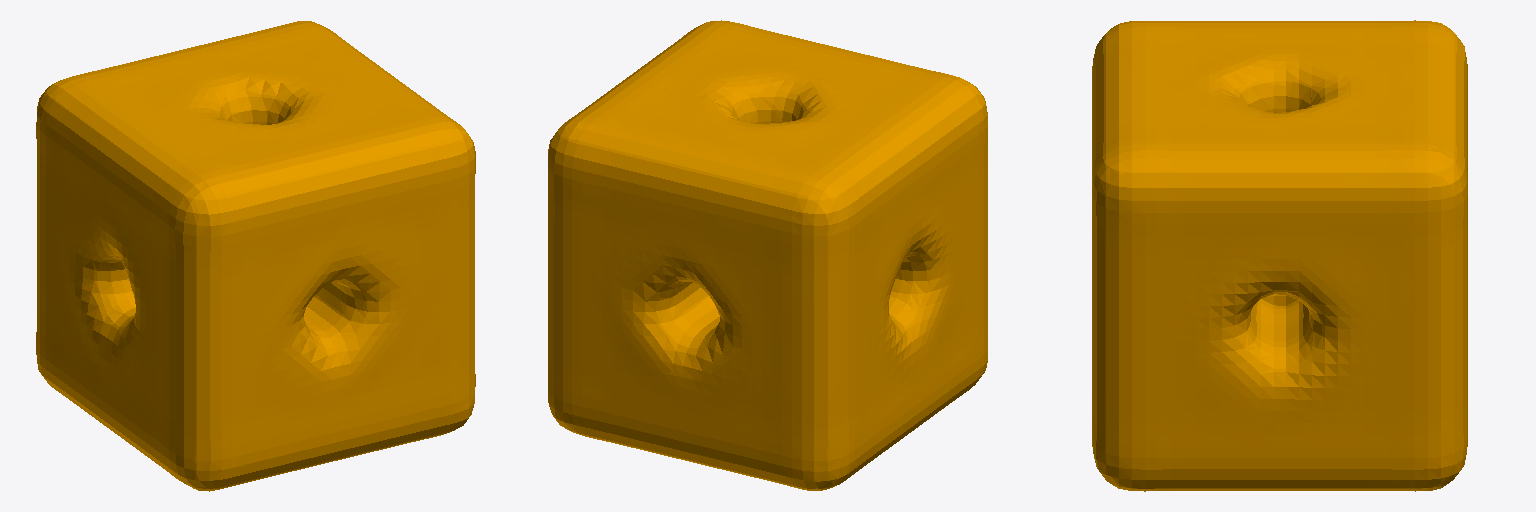
The robot description file, URDF, robot "I07_2":
<?xml version="1.0"?>
<robot name="I07_2">
  <link name="base_link">
    <visual>
      <geometry>
        <mesh filename="../../../../meshes/egad/train/I07_2.obj" />
      </geometry>
    </visual>
  </link>
</robot>

--- What the picture shows (computed from the rendered views, not written in the file) ---
Views: 3 orthographic renders of the robot side by side, from view 1: azimuth 30°, elevation 25°; view 2: azimuth 150°, elevation 25°; view 3: azimuth 270°, elevation 25°.
Model I07_2 with 1 links and 0 joints (none), rooted at base_link, posed all joints at 0.
Links seen in each view (by area): view 1: base_link; view 2: base_link; view 3: base_link.
Link boxes in pixels (x1=…): base_link: x1=36, y1=21, x2=475, y2=491; base_link: x1=548, y1=20, x2=987, y2=490; base_link: x1=1092, y1=20, x2=1467, y2=491.
Size in the robot's own frame: 0.06 by 0.06 by 0.06 metres.
Meshes: 1 distinct files referenced, 1 mesh visuals loaded (1 OBJ).